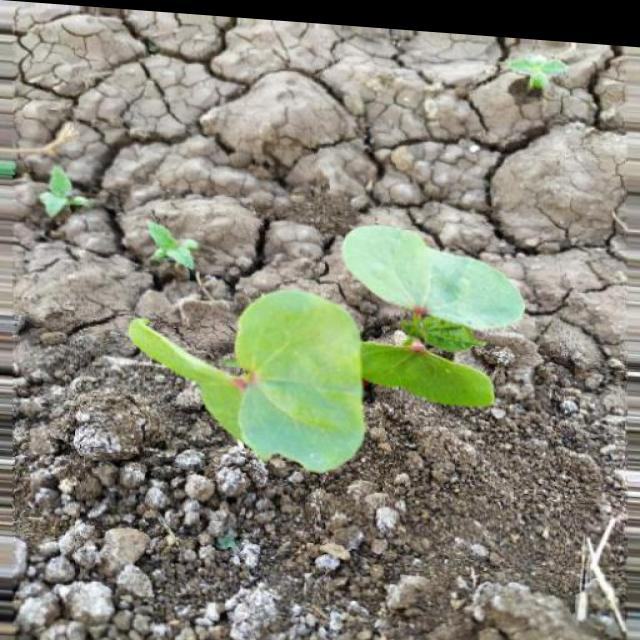weed: (99, 199, 522, 469)
